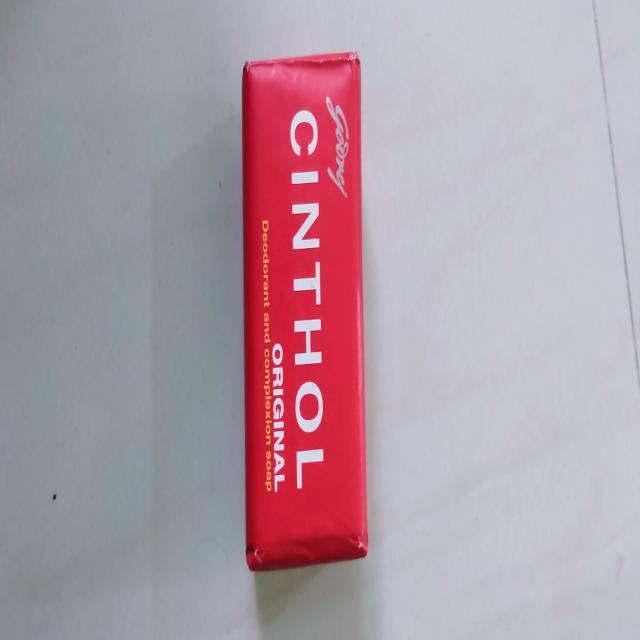soap: (240, 44, 365, 587)
